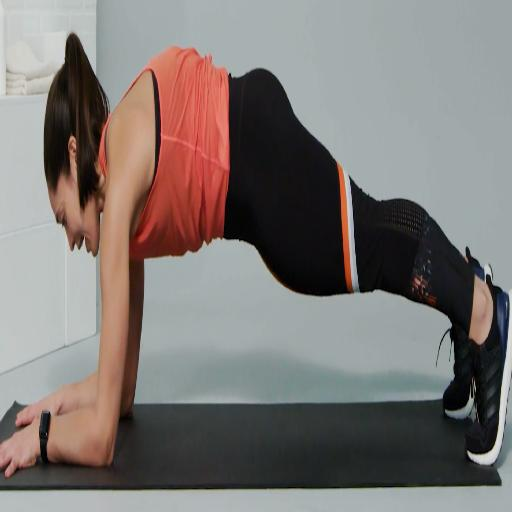Normal_BrenchPress: (0, 31, 506, 479)
